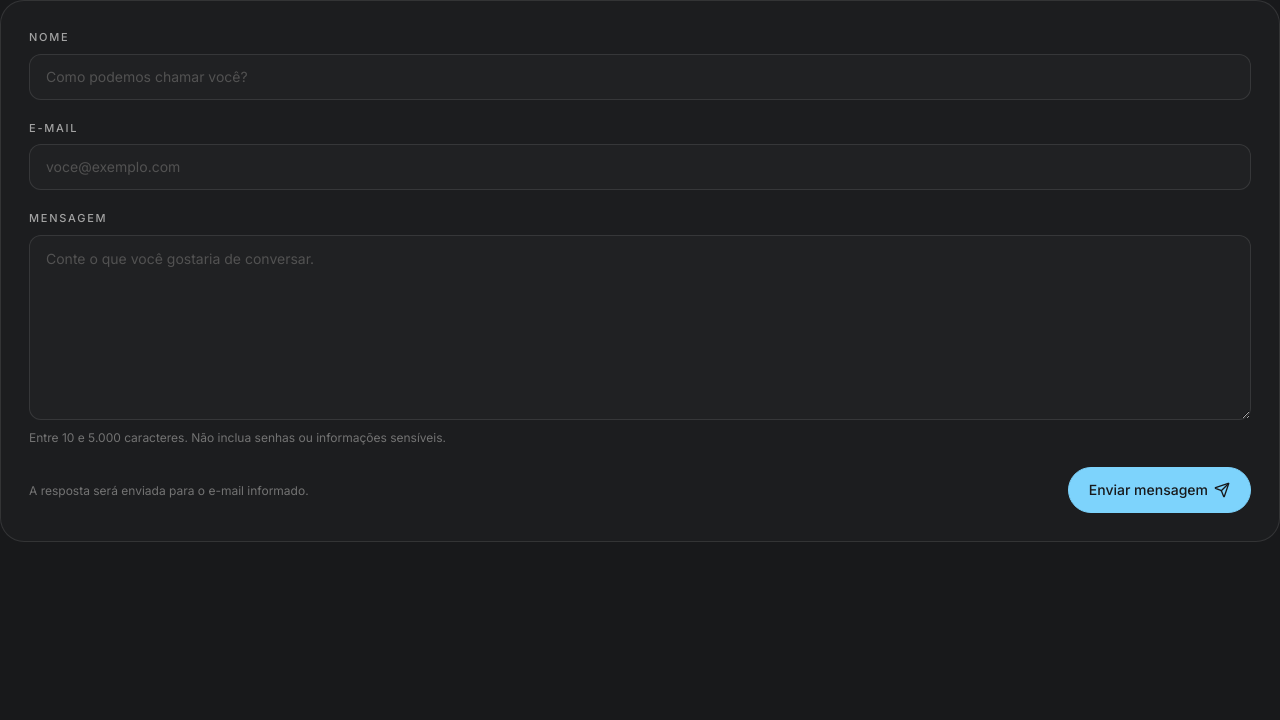
Test case: ContactForm › apresenta a mensagem segura retornada pela API
In the field labelled "Nome": (640, 76) [29,54,1251,100], type "Pessoa Leitora"
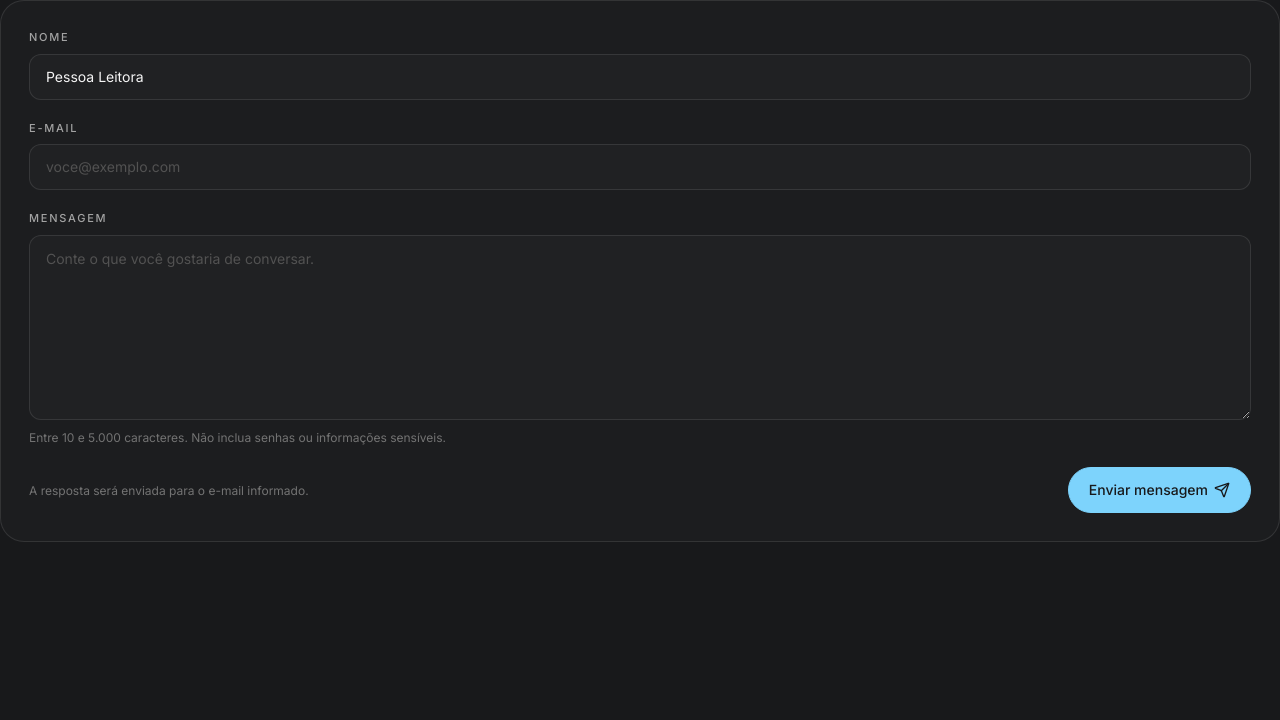
In the field labelled "E-mail": (640, 167) [29,144,1251,190], type "LEITOR@EXAMPLE.COM "
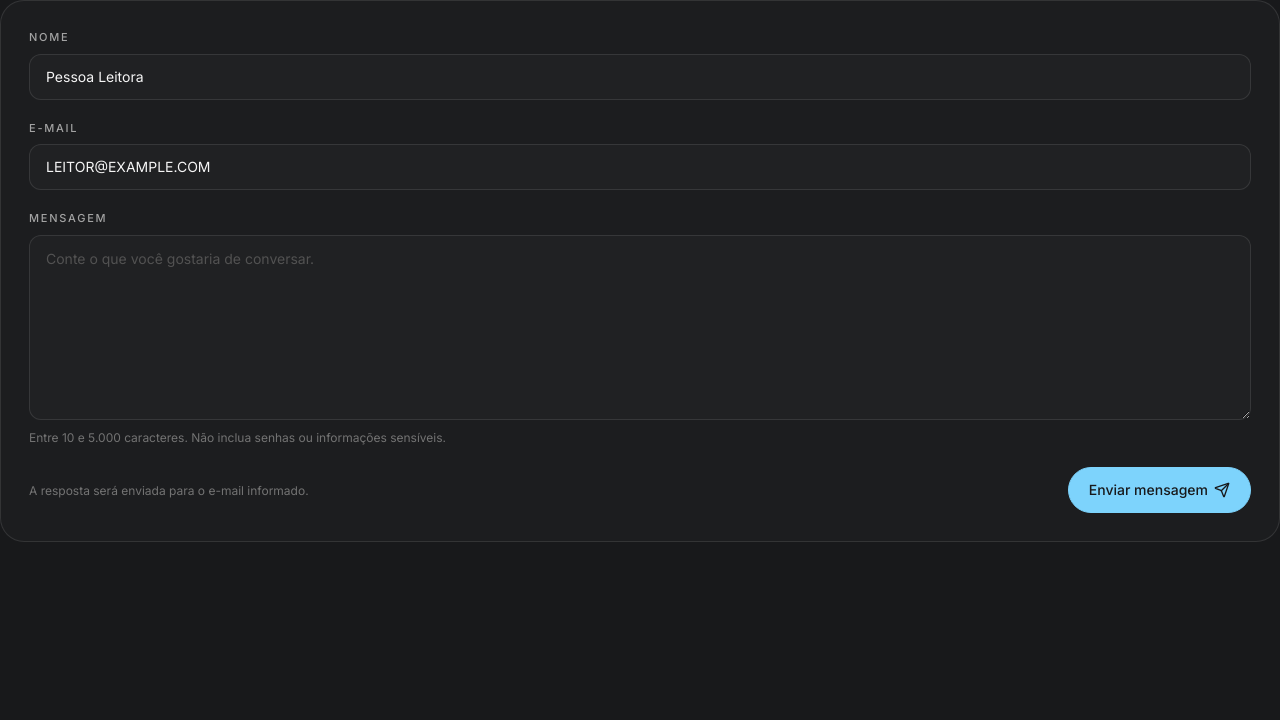
In the text box labelled "Mensagem": (640, 327) [29,234,1251,420], type "  Gostaria de sugerir uma pauta para o blog.  "
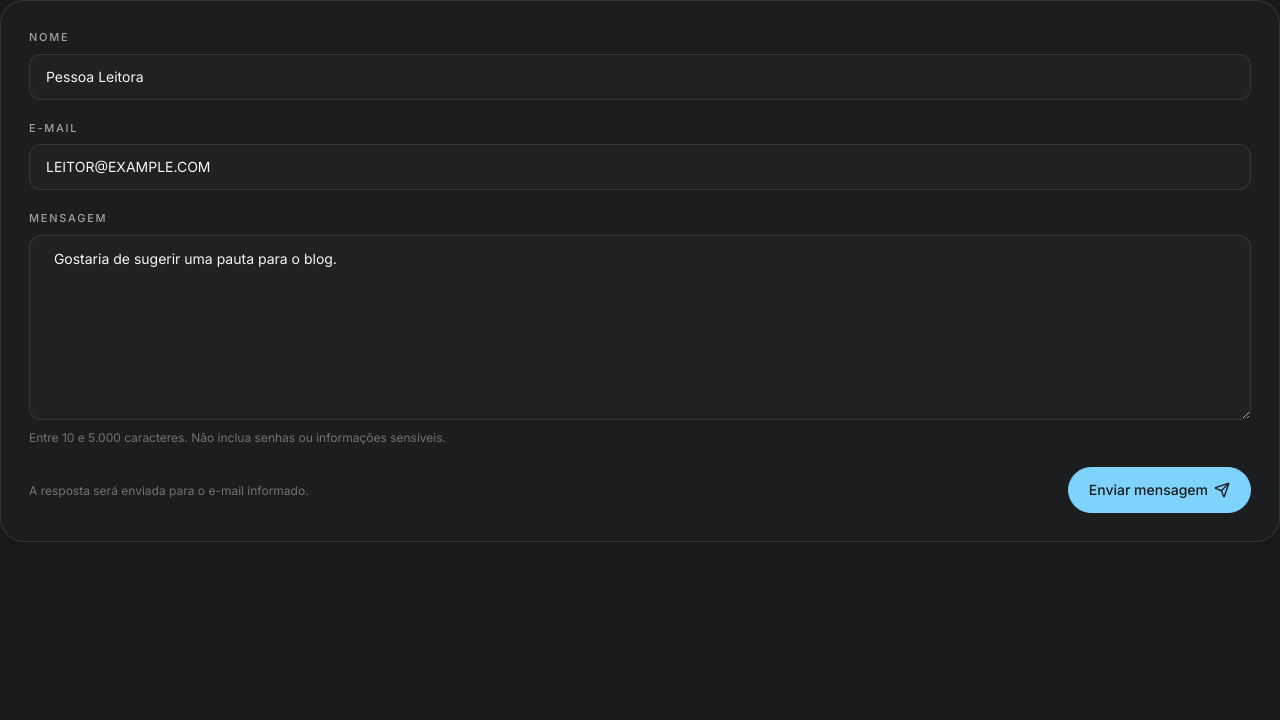
Click the button "Enviar mensagem": (1159, 490) [1068,467,1251,513]
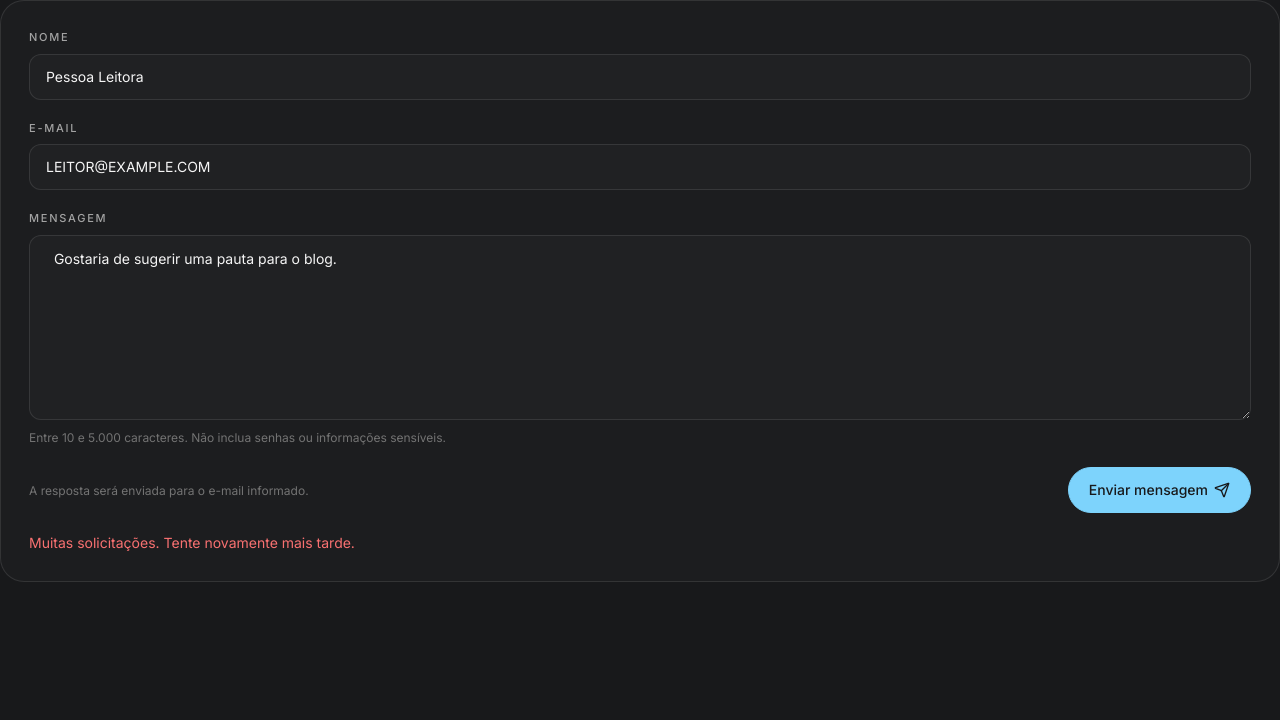
Expected: the message reads "Muitas solicitações. Tente novamente mais tarde.", [29,534,355,551]
